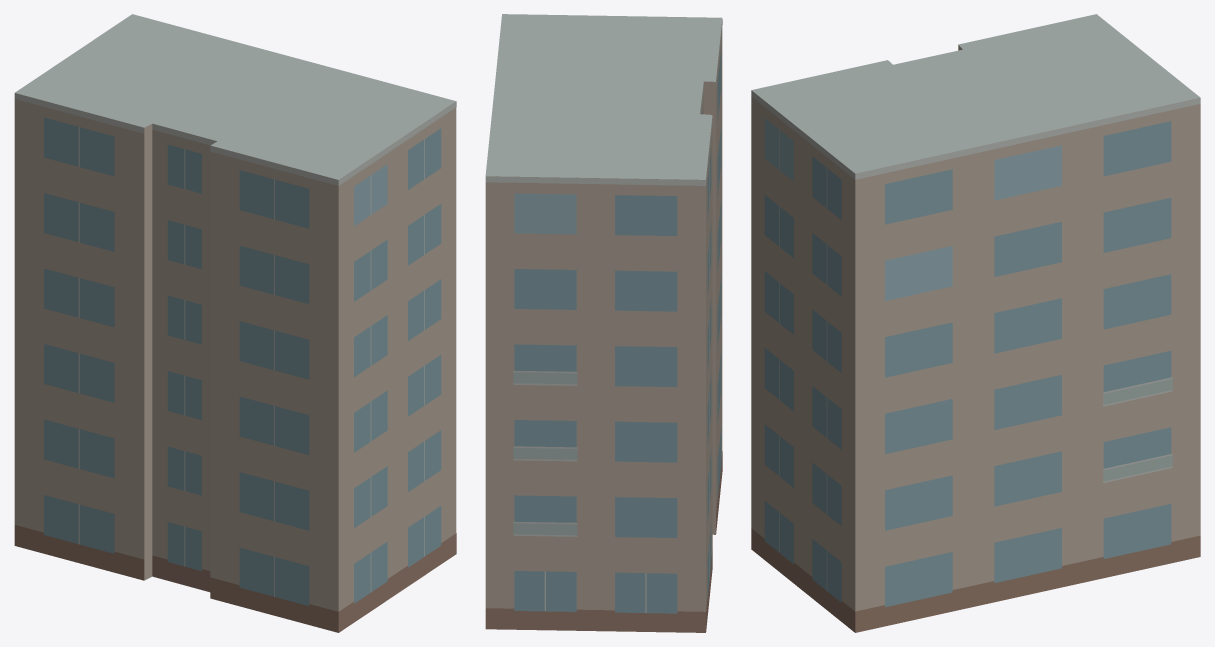
File: survey-upis-32998231.glb
3 views of the same model, side by side, from view 1: azimuth 30°, elevation 25°; view 2: azimuth 150°, elevation 25°; view 3: azimuth 270°, elevation 25° (orthographic).
Visible parts, largest first — view 1: survey-upis-32998231.tmp; view 2: survey-upis-32998231.tmp; view 3: survey-upis-32998231.tmp.
Boxes of the visible parts, bbox=[...] form: survey-upis-32998231.tmp: bbox=[14, 14, 456, 632]; survey-upis-32998231.tmp: bbox=[485, 14, 722, 632]; survey-upis-32998231.tmp: bbox=[751, 14, 1200, 632].
Bounding box in the file's own units: 13.66 × 18.3 × 16.24.
